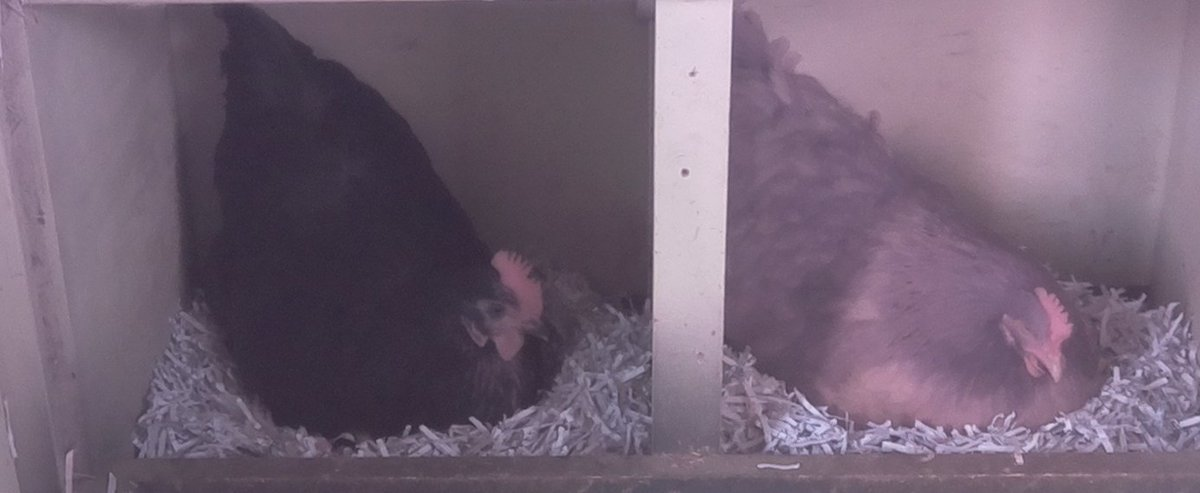hen: (193, 17, 573, 445), (733, 34, 1107, 442)
